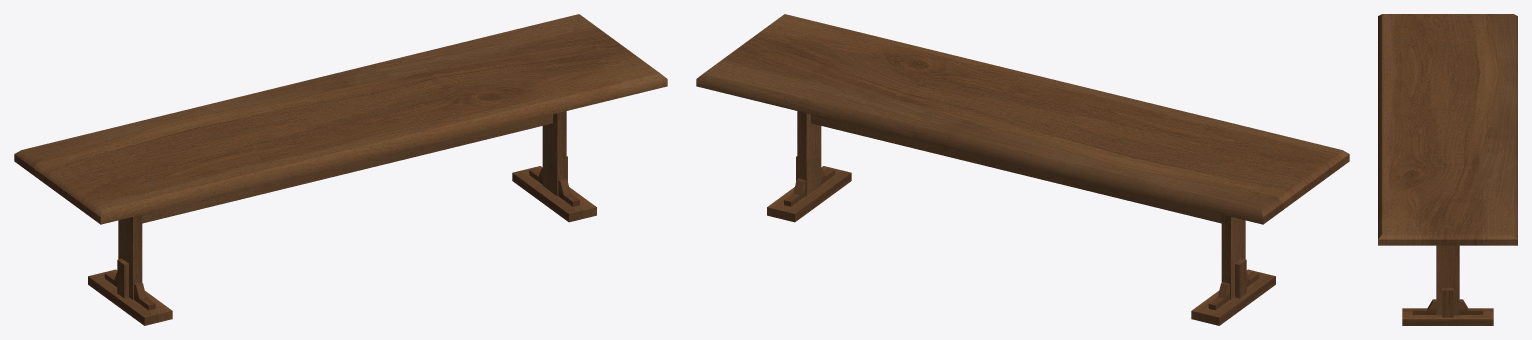
Rendered from Table.fbx.
3 renders of one model, left to right at view 1: azimuth 30°, elevation 25°; view 2: azimuth 150°, elevation 25°; view 3: azimuth 270°, elevation 25°, orthographic. The views are drawn at different scales.
Visible parts, largest first — view 1: MedievalDiningRoom_FinalScene2:M_Table1_MedievalDiningRoom_F; view 2: MedievalDiningRoom_FinalScene2:M_Table1_MedievalDiningRoom_F; view 3: MedievalDiningRoom_FinalScene2:M_Table1_MedievalDiningRoom_F.
Boxes of the visible parts, <box> form: MedievalDiningRoom_FinalScene2:M_Table1_MedievalDiningRoom_F: <box>14,14,667,325</box>; MedievalDiningRoom_FinalScene2:M_Table1_MedievalDiningRoom_F: <box>696,14,1349,325</box>; MedievalDiningRoom_FinalScene2:M_Table1_MedievalDiningRoom_F: <box>1378,14,1517,325</box>.
Size of the model in its own units: 136 by 31.79 by 35.96.
Materials: 1 (1 with a texture image).
